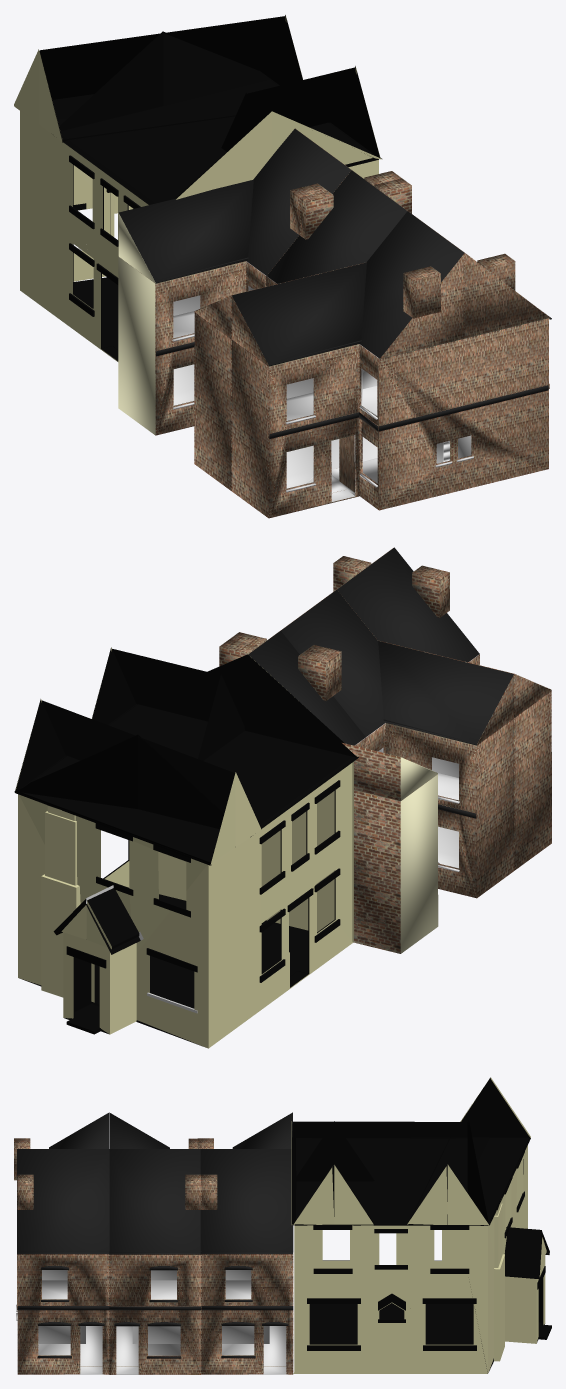
File: 864ironstoneglb.glb
3 renders of one model, top to bottom at view 1: azimuth 30°, elevation 25°; view 2: azimuth 150°, elevation 25°; view 3: azimuth 270°, elevation 25°, orthographic. The views are drawn at different scales.
Visible parts, largest first — view 1: Cube.039, Cube, Cube.002, Cube.001; view 2: Cube, Cube.001, Cube.002, Cube.039; view 3: Cube, Cube.039, Cube.002, Cube.001.
Part boxes in pixels (x1,y1,x2,y2): Cube.039: (231, 211, 551, 518); Cube: (14, 15, 382, 361); Cube.002: (118, 128, 401, 435); Cube.001: (194, 170, 411, 490); Cube: (14, 647, 358, 1048); Cube.001: (230, 589, 514, 898); Cube.002: (219, 631, 438, 953); Cube.039: (333, 547, 551, 870); Cube: (291, 1077, 551, 1373); Cube.039: (14, 1112, 109, 1374); Cube.002: (197, 1112, 293, 1374); Cube.001: (109, 1113, 201, 1374).
Size of the model in its own units: 29.41 by 27.76 by 64.01.
11 materials, 2 textured.
